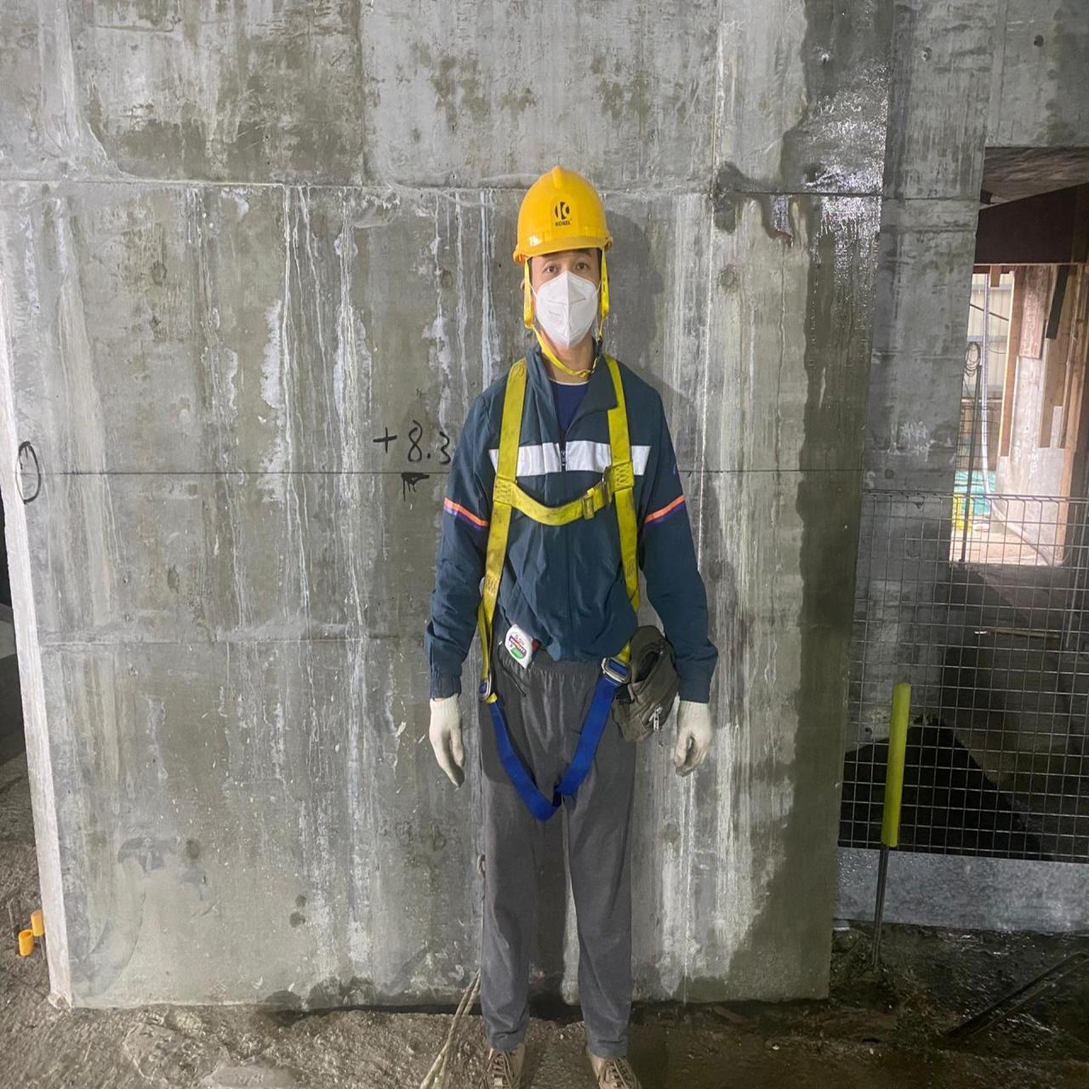NO_Safety_Vest: (459, 344, 659, 668)
Person: (395, 145, 736, 1088)
